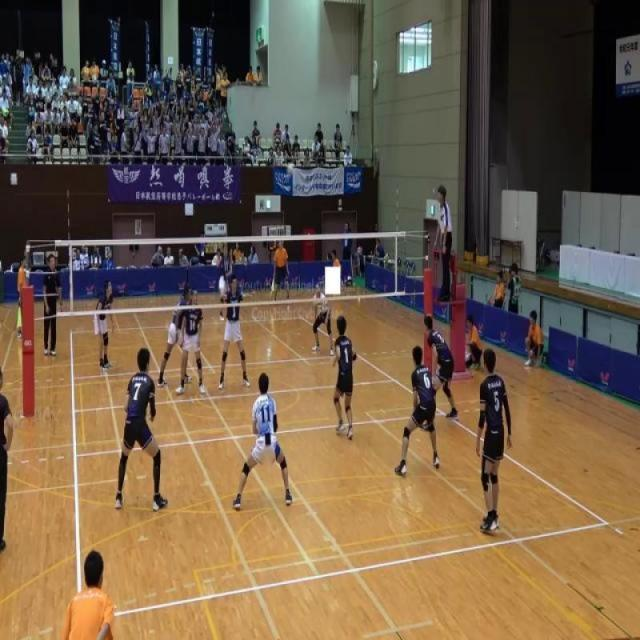volleyball: (286, 161, 296, 176)
